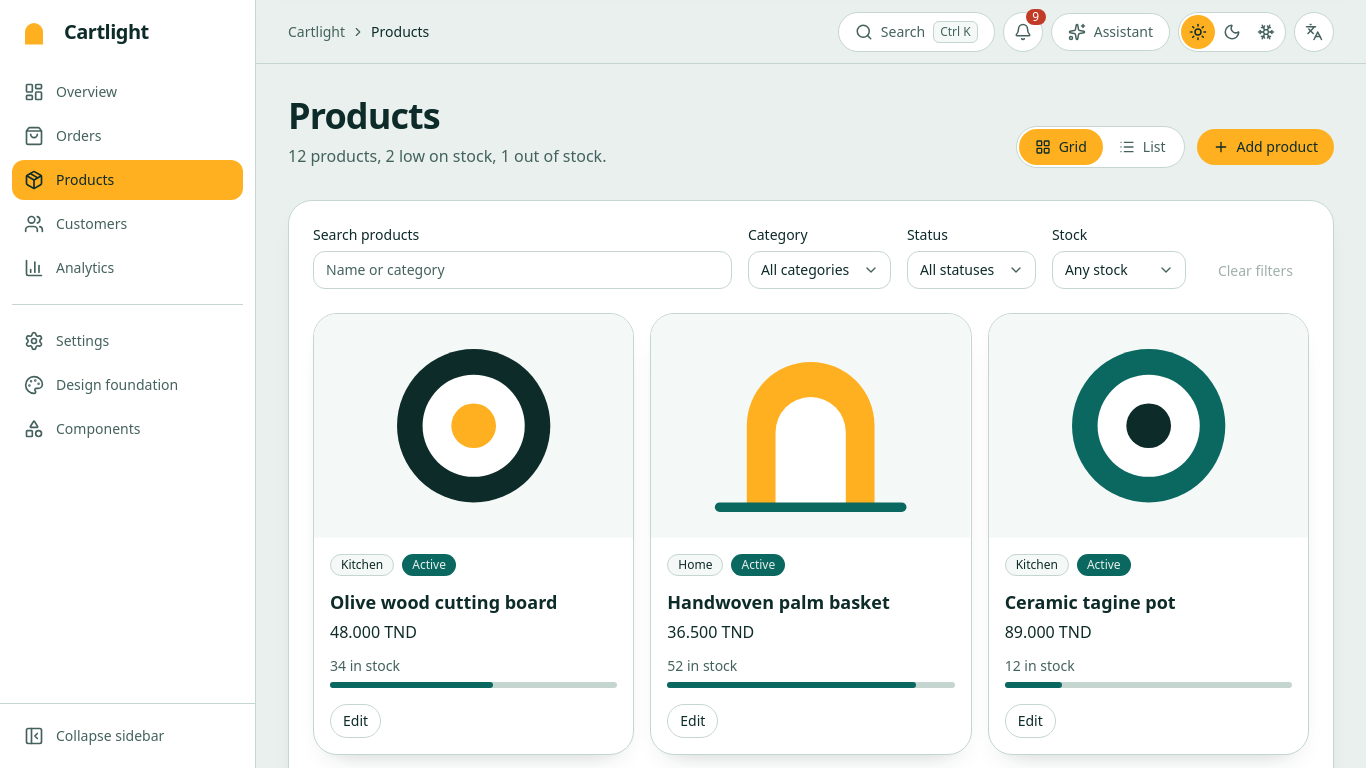
Test: products page › shows low stock and out of stock in words
Expected: the heading "Products" is shown, [288,91,440,140]
Select "Low stock" in the dropdown labelled "Stock" at (1119, 270), box [1052,251,1186,289]
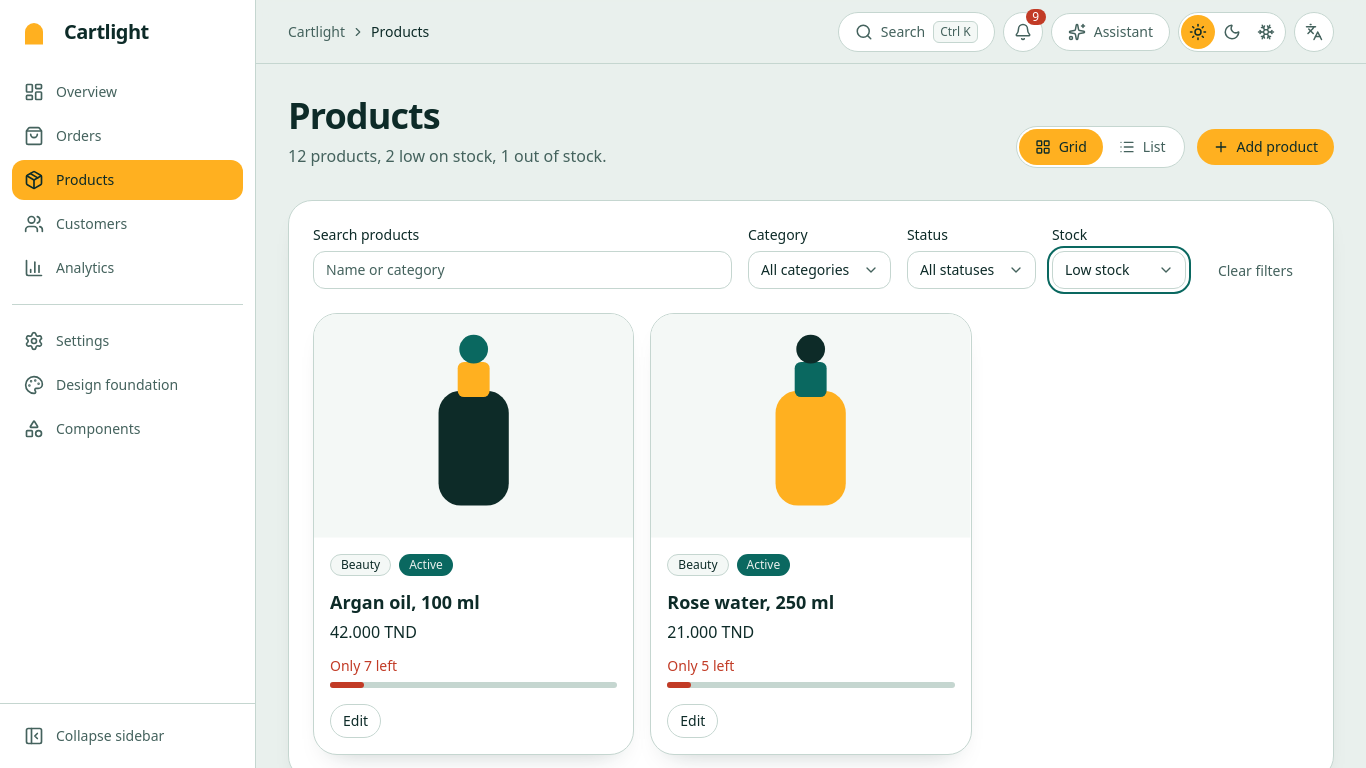
Expected: the text "Only 7 left" is shown, [330,656,397,674]
Select "Out of stock" in the dropdown labelled "Stock" at (1119, 270), box [1052,251,1186,289]
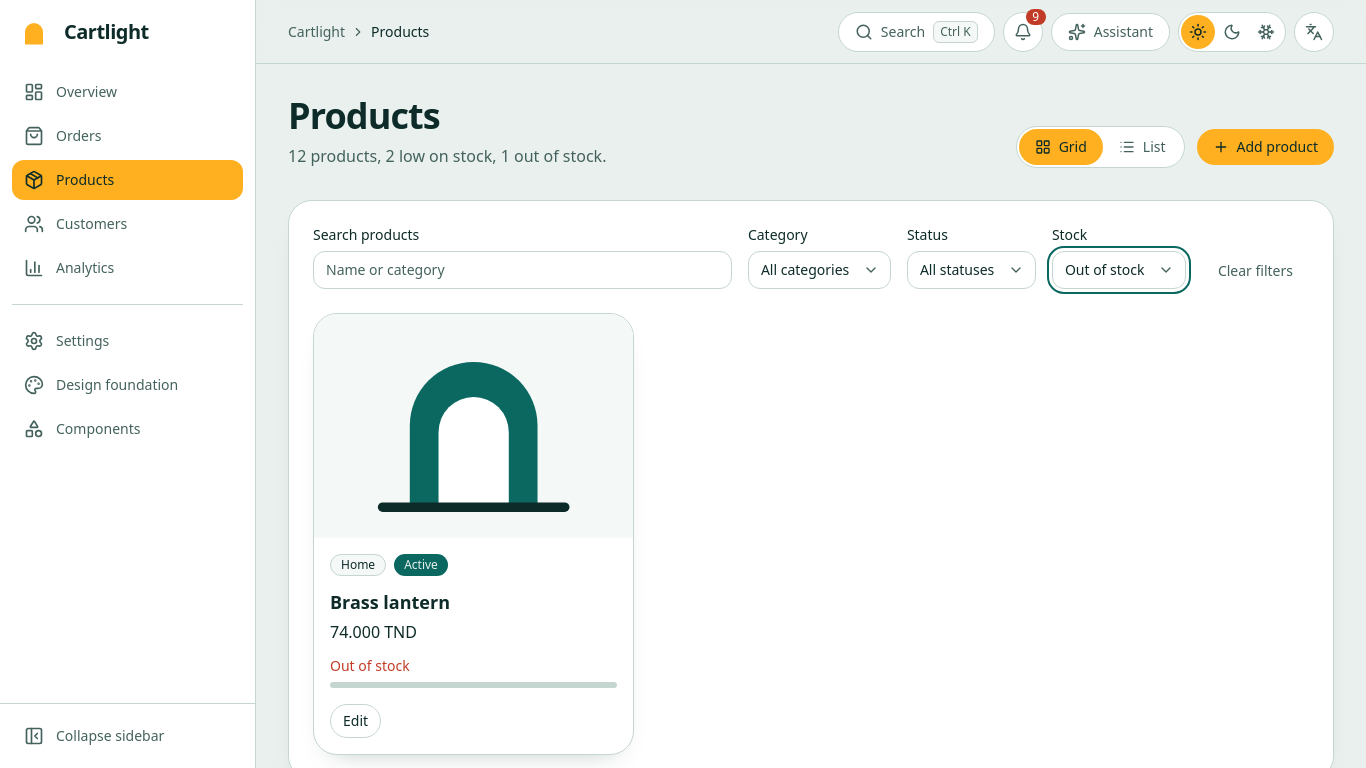
Result: the text "Out of stock" is shown at [330,656,410,674]
